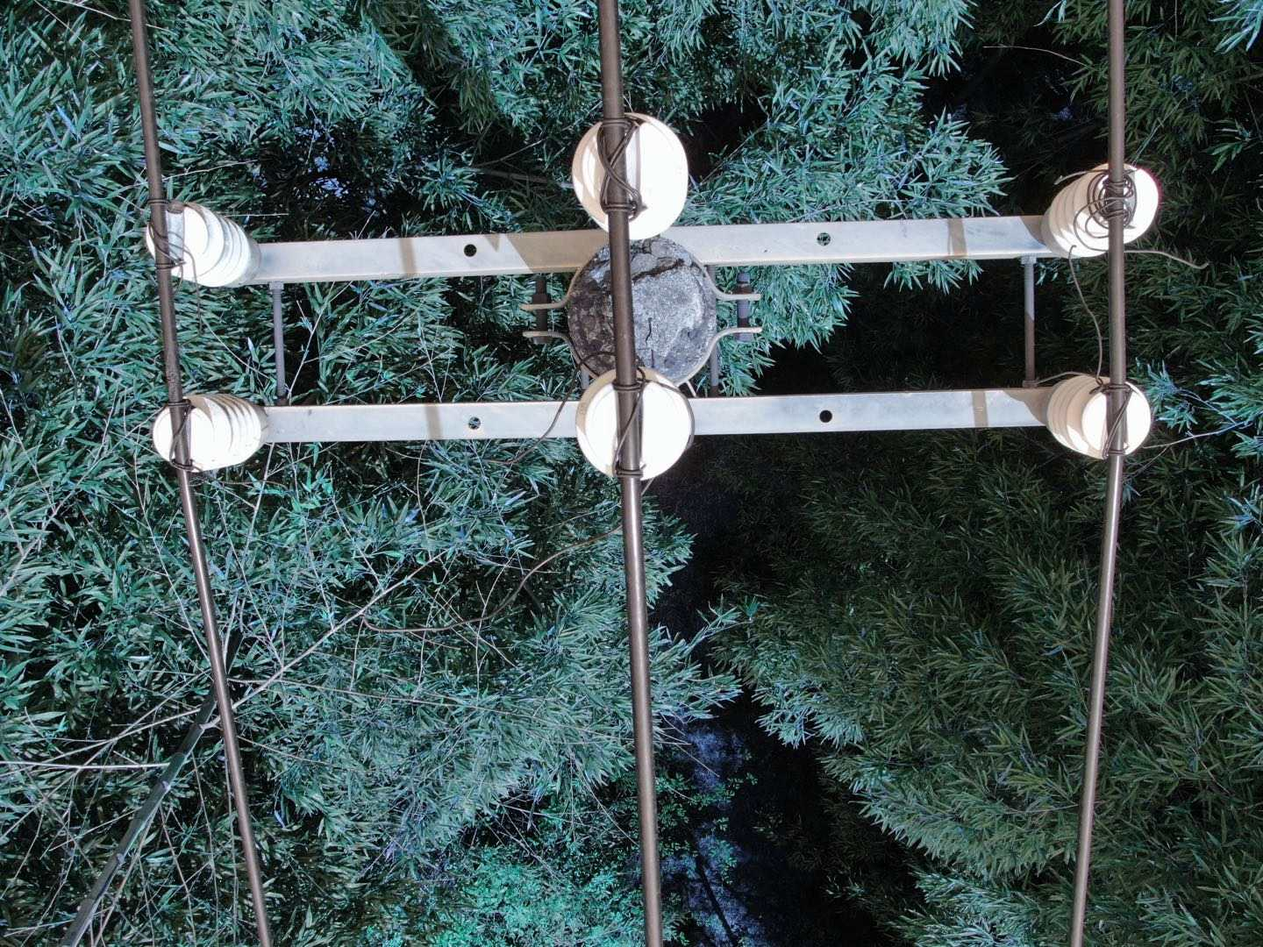severe_soiling_no_discharge_whole: (135, 191, 266, 293)
